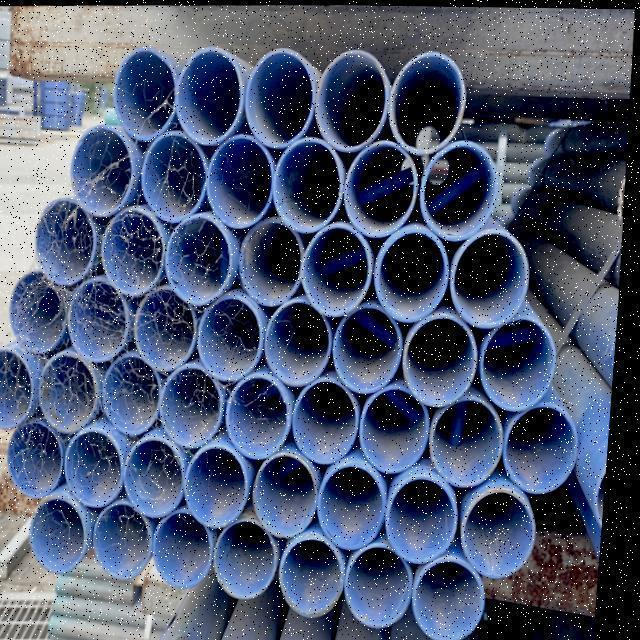pipe: (447, 224, 532, 327), (174, 47, 255, 150), (389, 49, 466, 149), (313, 45, 388, 147), (69, 125, 150, 219), (506, 402, 585, 497), (243, 41, 317, 142), (465, 483, 544, 577), (482, 315, 560, 410), (378, 224, 453, 322), (404, 317, 482, 411), (422, 140, 498, 236), (392, 470, 467, 566), (271, 135, 343, 234), (358, 383, 438, 472), (304, 220, 376, 317), (433, 394, 509, 484), (136, 276, 208, 370), (205, 134, 274, 231), (333, 301, 408, 390), (345, 141, 419, 231), (108, 49, 177, 143), (199, 288, 268, 382), (321, 460, 393, 549), (265, 293, 335, 383), (228, 372, 297, 463), (164, 215, 231, 308), (420, 557, 494, 640), (241, 214, 307, 307), (354, 545, 426, 630), (142, 130, 207, 224), (293, 376, 361, 465), (189, 443, 256, 533), (103, 209, 169, 300), (257, 449, 325, 537), (283, 530, 351, 617), (161, 365, 228, 451), (35, 197, 99, 287), (72, 278, 138, 365), (7, 271, 73, 357), (126, 438, 191, 524), (67, 423, 131, 510), (43, 348, 104, 437), (219, 518, 286, 599), (104, 351, 167, 437), (156, 509, 220, 592), (11, 415, 69, 501), (100, 500, 160, 583), (33, 494, 95, 574), (0, 347, 41, 436)
